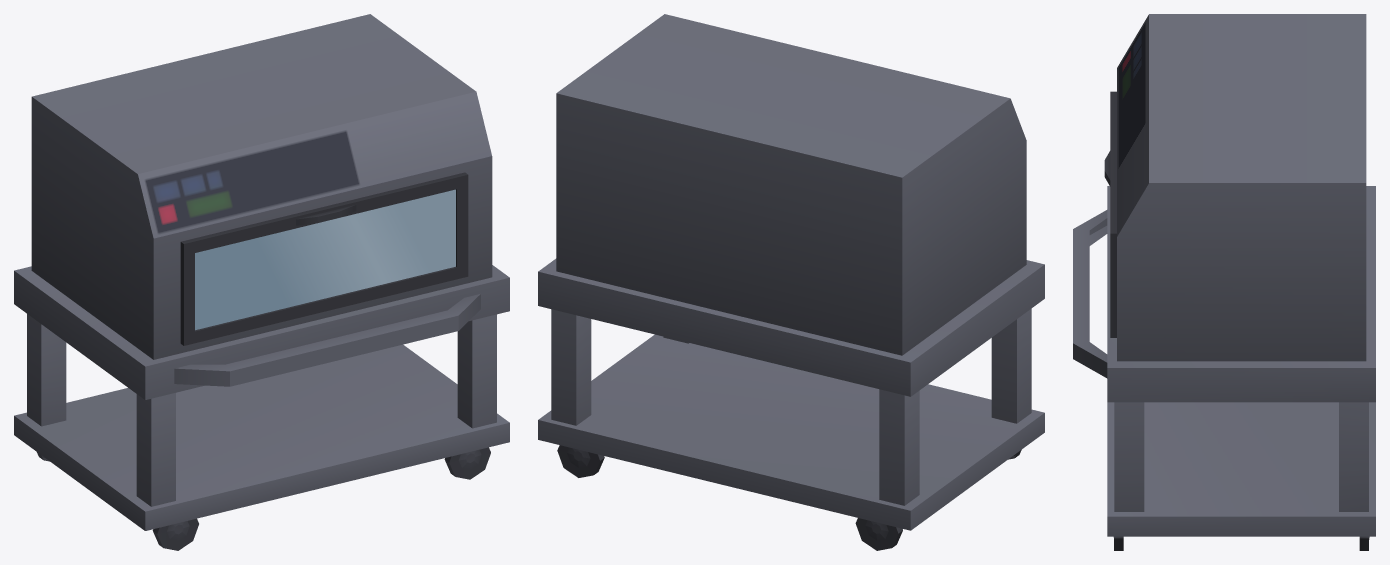
File: Pizza oven.fbx
3 views of the same model, side by side, from view 1: azimuth 30°, elevation 25°; view 2: azimuth 150°, elevation 25°; view 3: azimuth 270°, elevation 25° (orthographic). The views are drawn at different scales.
Parts seen in each view (by area): view 1: Pizza oven; view 2: Pizza oven; view 3: Pizza oven.
Part boxes in pixels (<box>): Pizza oven: <box>14,14,509,550</box>; Pizza oven: <box>538,14,1044,550</box>; Pizza oven: <box>1073,14,1375,550</box>.
Bounding box in the file's own units: 4.22 × 4.09 × 2.96.
Materials: 1 (1 with a texture image).
